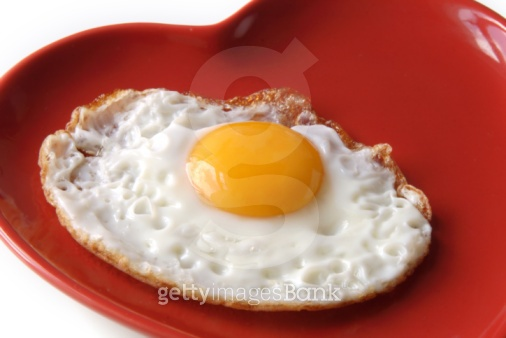fried egg: (59, 97, 415, 303)
